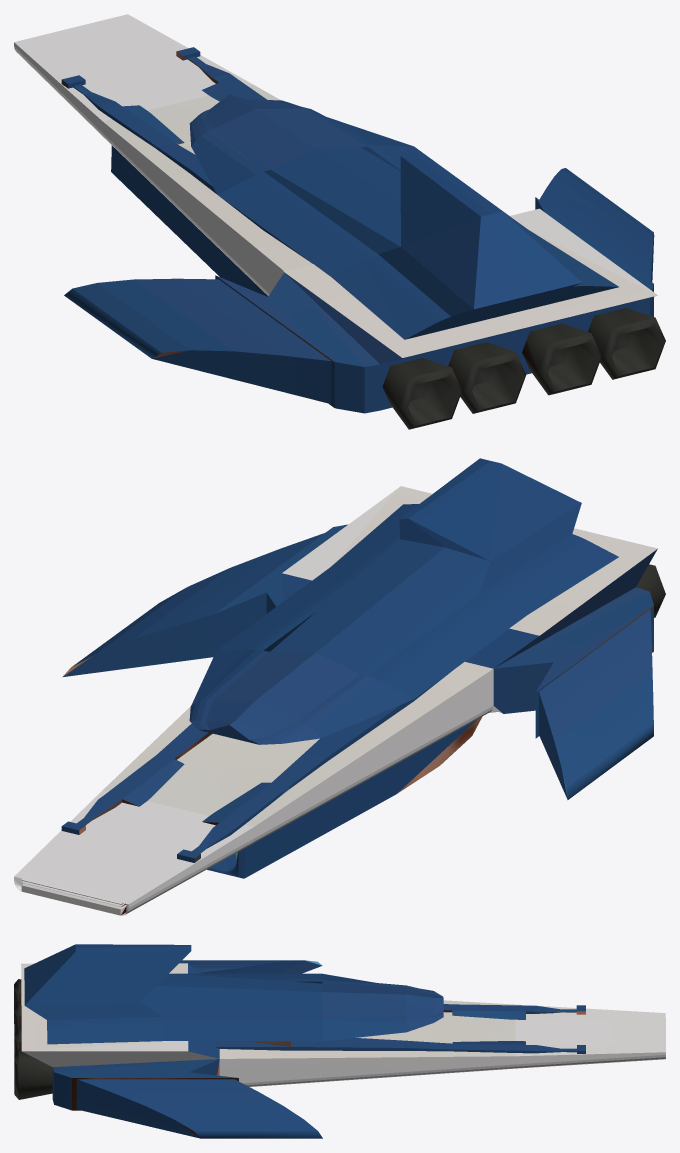
Rendered from NavePF.obj.
3 renders of one model, top to bottom at view 1: azimuth 30°, elevation 25°; view 2: azimuth 150°, elevation 25°; view 3: azimuth 270°, elevation 25°, orthographic. The views are drawn at different scales.
Parts seen in each view (by area): view 1: nave_mae_Cubo.002; view 2: nave_mae_Cubo.002; view 3: nave_mae_Cubo.002.
Boxes of the visible parts, left/top/right/bottom form: nave_mae_Cubo.002: left=14, top=14, right=665, bottom=429; nave_mae_Cubo.002: left=14, top=458, right=665, bottom=915; nave_mae_Cubo.002: left=14, top=944, right=665, bottom=1138.
Bounding box in the file's own units: 9.2 × 3.19 × 14.66.
